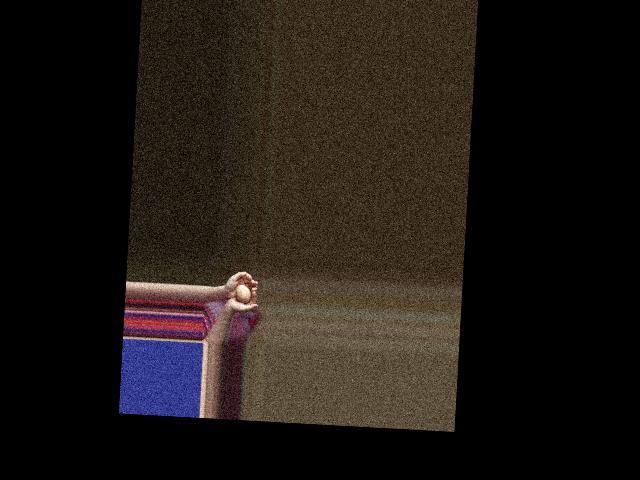egg: (235, 284, 252, 304)
